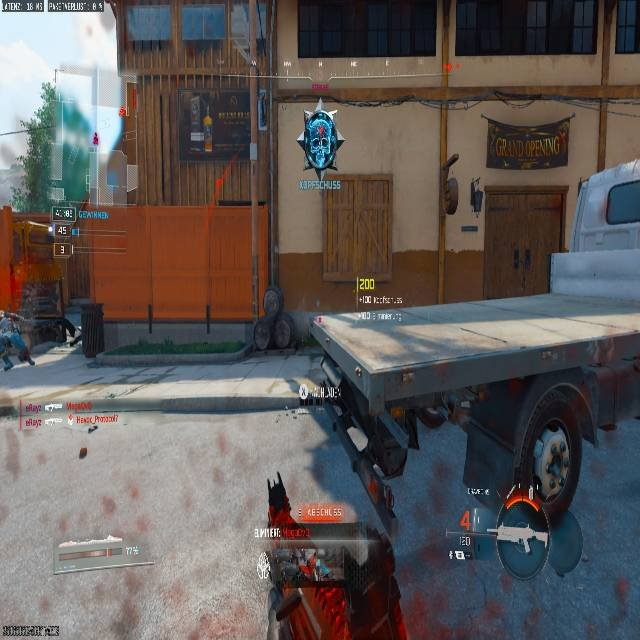player: (300, 106, 343, 175), (0, 309, 35, 373)
